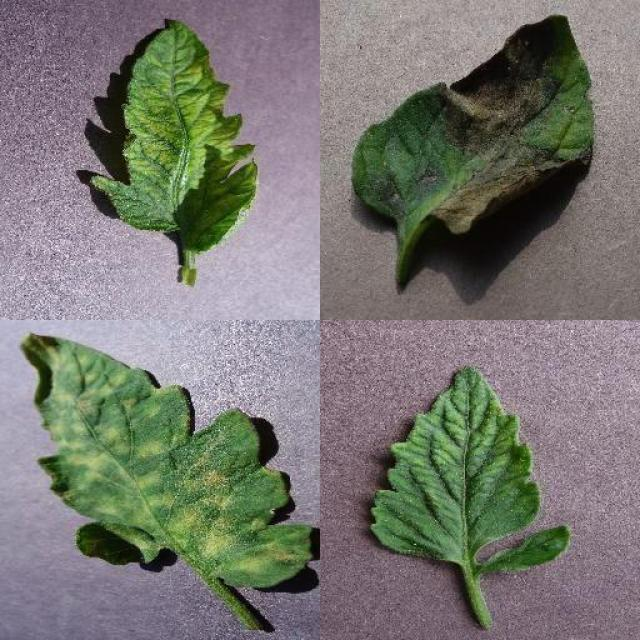Late Blight: (353, 12, 595, 238)
